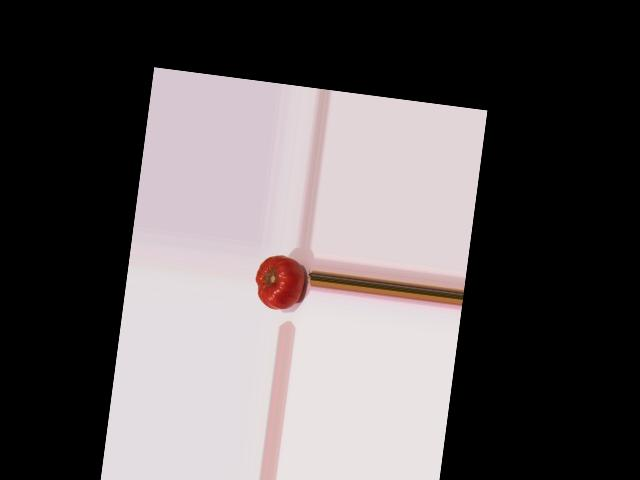tomato: (252, 253, 306, 312)
